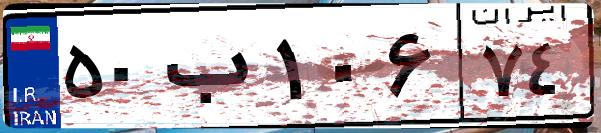0: (330, 28, 385, 110), (110, 28, 158, 98)
1: (270, 28, 330, 110)
4: (525, 38, 570, 115)
5: (57, 26, 110, 100)
6: (385, 28, 445, 110)
7: (475, 38, 525, 113)
ب: (158, 20, 270, 120)
